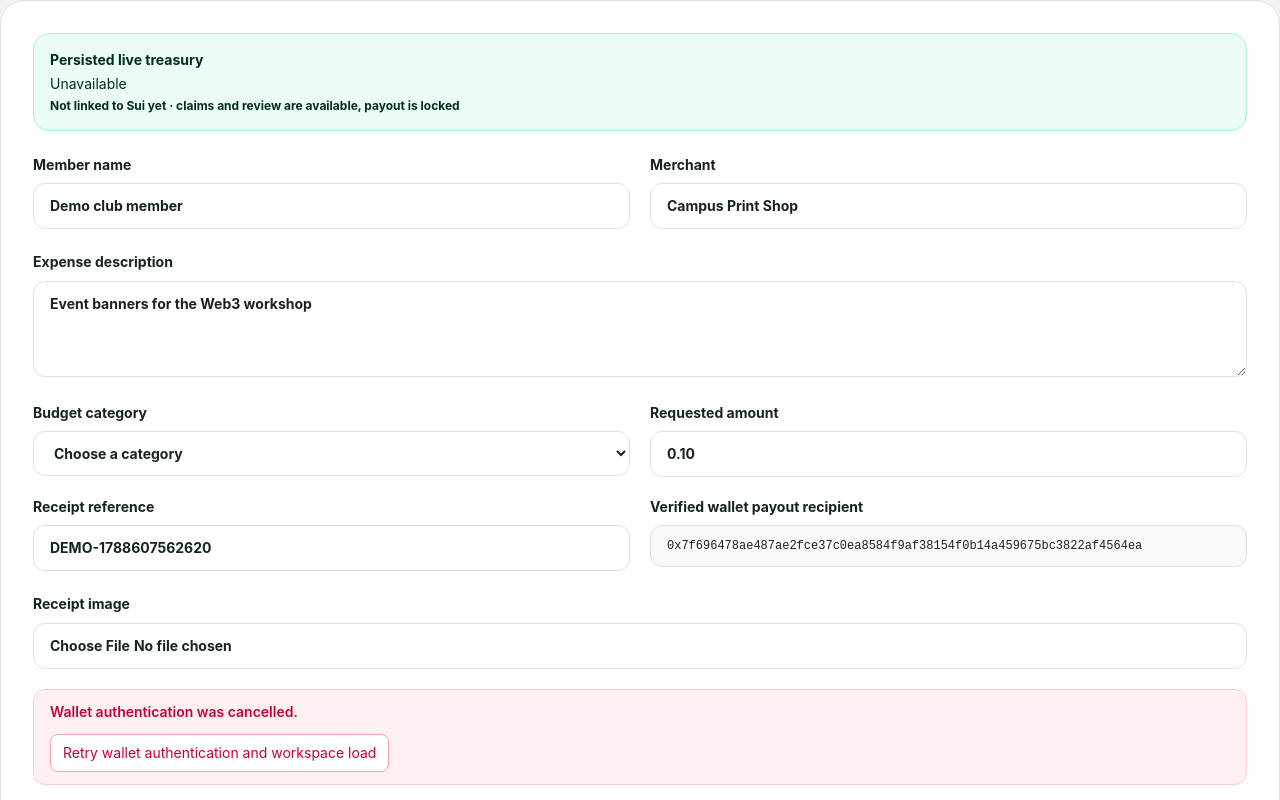
live claim submission authentication ordering › offers a safe retry when wallet authentication is rejected before workspace loading
Expected: the text "Wallet authentication was cancelled." is shown, [50,703,298,720]
Click the button "Retry wallet authentication and workspace load" at (220, 753), box [50,734,389,772]
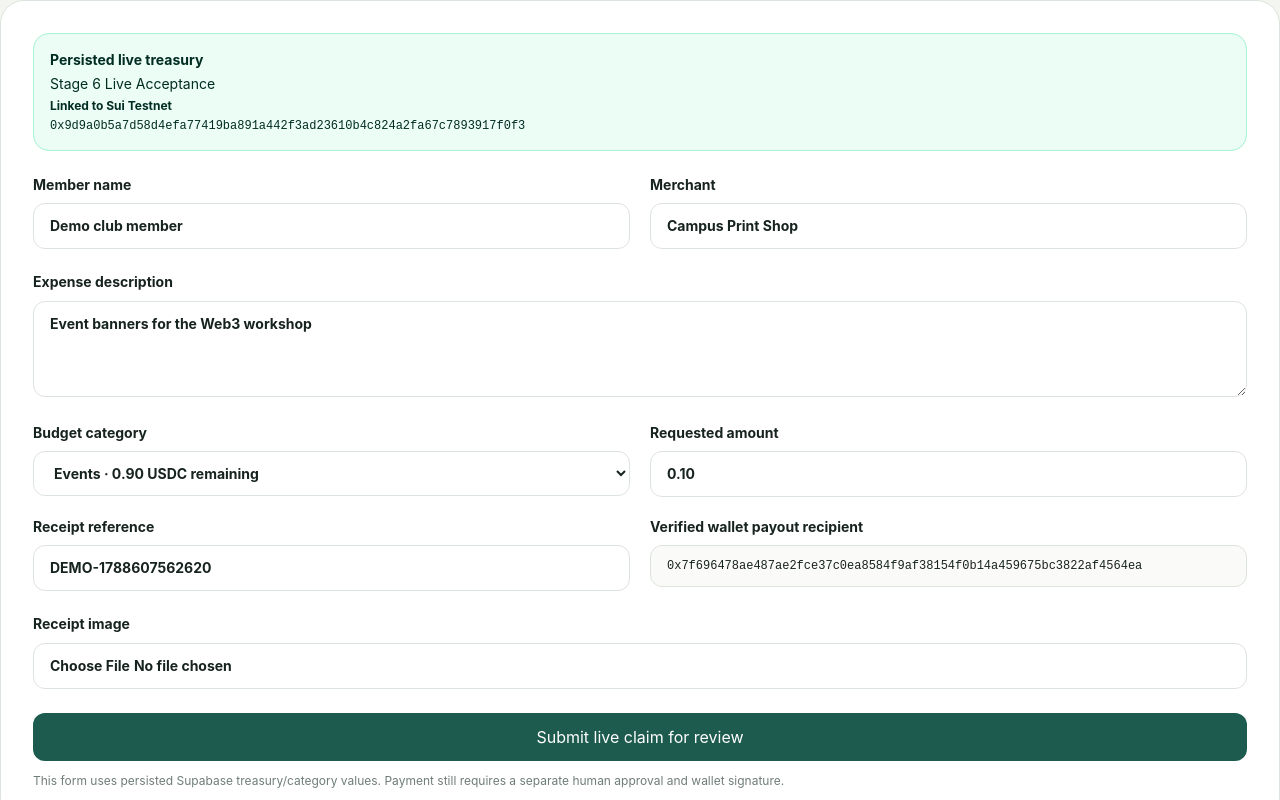
Now the text "Stage 6 Live Acceptance" is shown, box [50,75,215,92]
